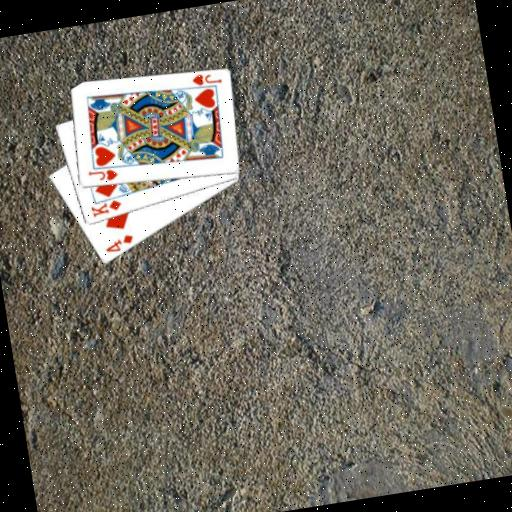4D: (100, 230, 135, 255)
JH: (85, 164, 120, 185), (187, 69, 222, 89)
KD: (86, 195, 124, 219)
